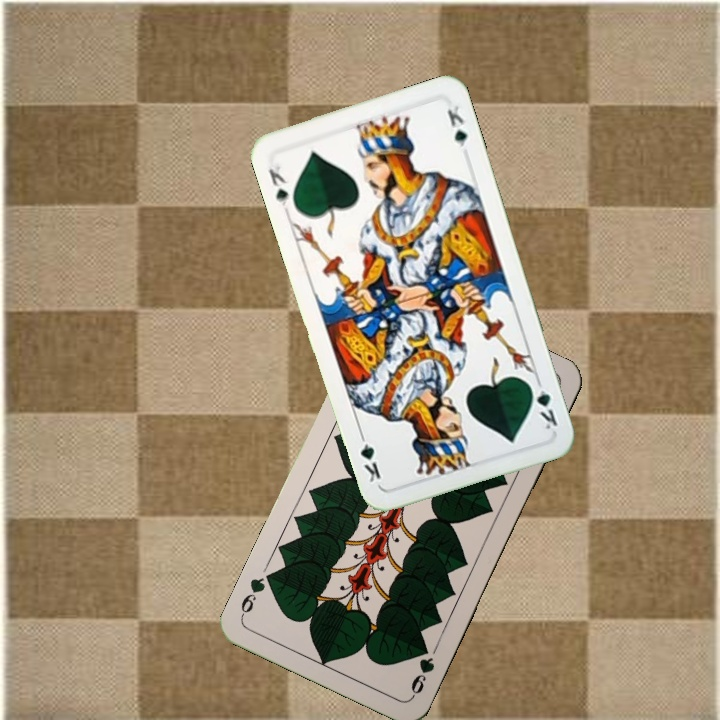G9: (407, 640, 437, 700)
GK: (525, 375, 560, 432), (264, 161, 291, 209)
